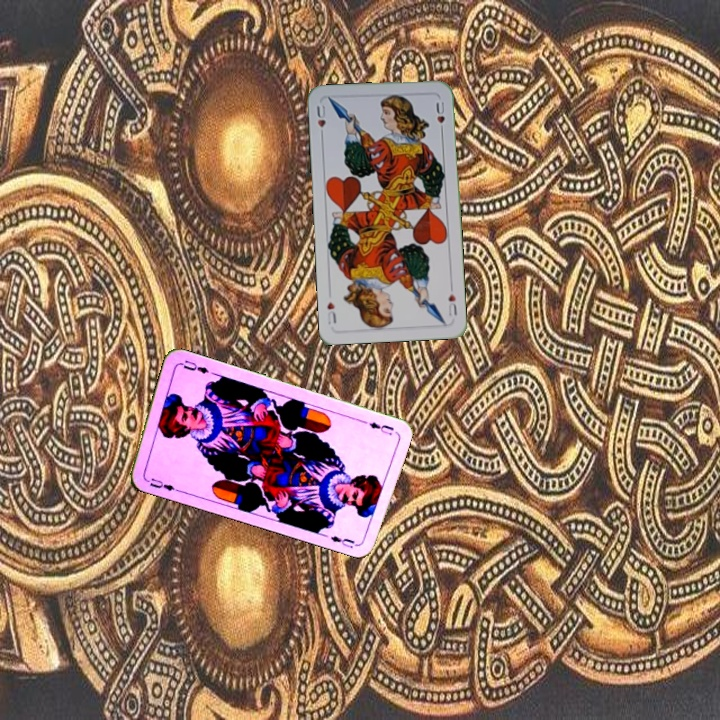EU: (142, 474, 181, 494), (365, 418, 396, 437)
HU: (444, 282, 460, 319), (313, 101, 328, 140)
